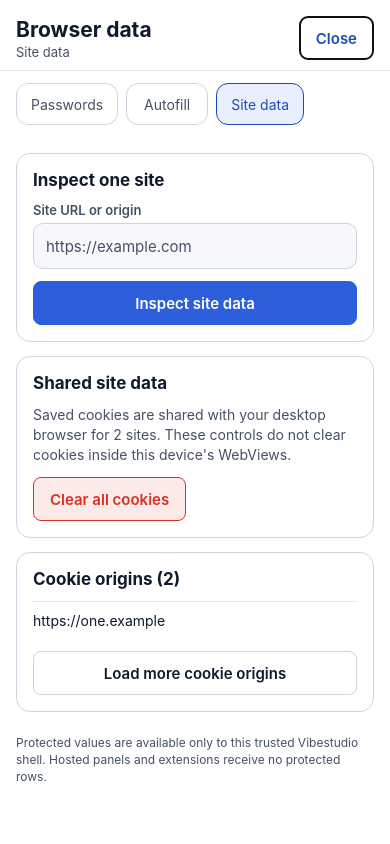
Test: BrowserPrivacyManager › paginates cookie origins and confirms session-wide mutations
Check: the text "https://one.example" is shown, box [33,601,357,639]
Step 1. Click the button "Load more cookie origins" → (195, 673), box [33,651,357,695]
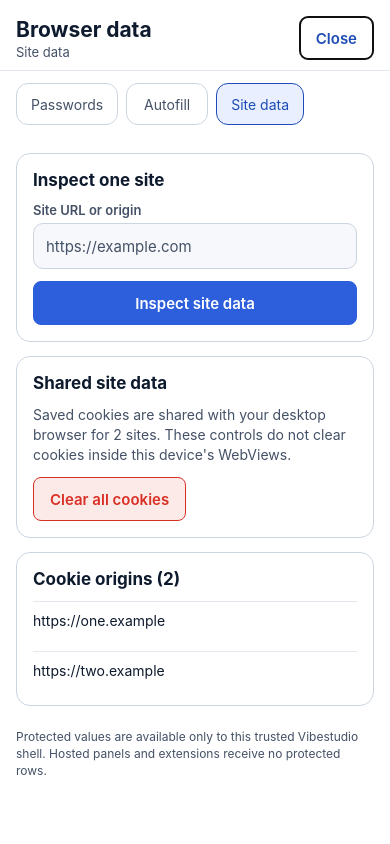
Check: the text "https://two.example" is shown, box [33,651,357,689]
Step 2. Click the button "Clear all cookies" → (110, 499), box [33,477,186,521]
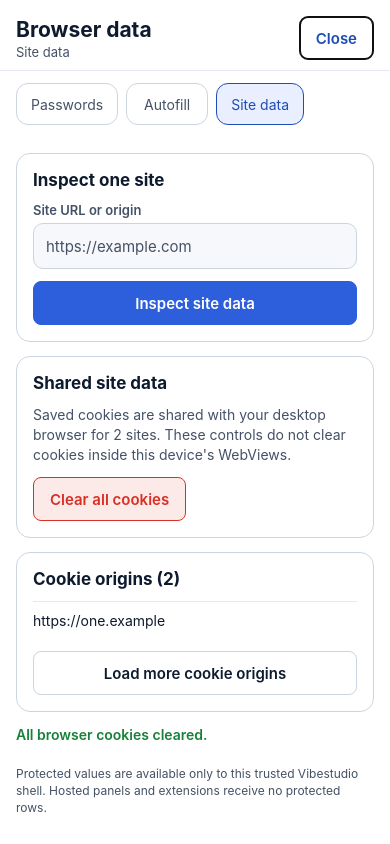
Check: the text "All browser cookies cleared." is shown, box [16,726,208,743]
